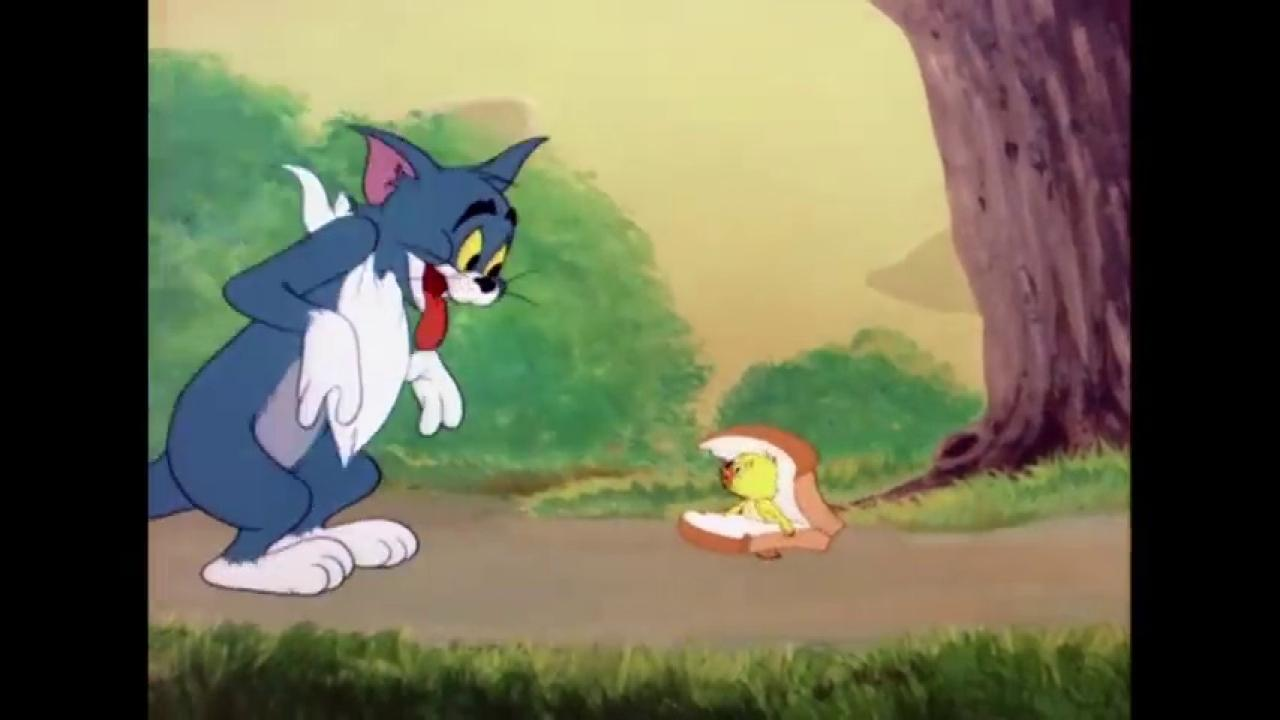Tom: (151, 123, 558, 600)
